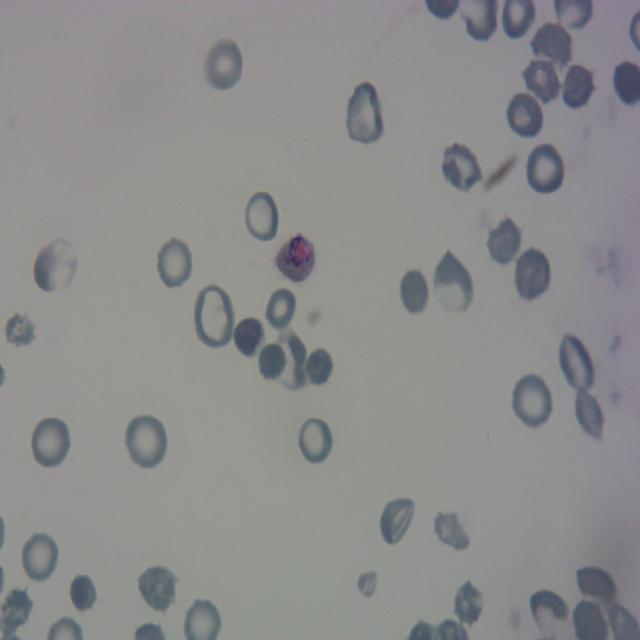leukocyte: (343, 80, 388, 149), (430, 251, 475, 320), (554, 329, 598, 398), (192, 283, 236, 351), (123, 412, 170, 473), (32, 236, 79, 297), (510, 370, 554, 432), (201, 35, 245, 95), (28, 414, 72, 472), (573, 562, 620, 614), (525, 586, 571, 639), (524, 140, 566, 198), (153, 234, 194, 293), (19, 529, 61, 585), (440, 140, 483, 194), (512, 245, 552, 303), (241, 189, 281, 247), (294, 412, 336, 467), (520, 56, 562, 108), (504, 90, 545, 143), (378, 494, 418, 548), (530, 17, 569, 71), (570, 388, 608, 443), (484, 216, 523, 269), (133, 564, 176, 610), (558, 60, 596, 111), (428, 510, 473, 553), (0, 587, 36, 634), (452, 580, 485, 628), (399, 268, 430, 318), (65, 572, 98, 618), (264, 287, 297, 330), (233, 316, 266, 359), (1, 311, 38, 349), (304, 347, 335, 388), (256, 342, 287, 383), (355, 564, 383, 605)
schizont: (272, 234, 316, 284)
